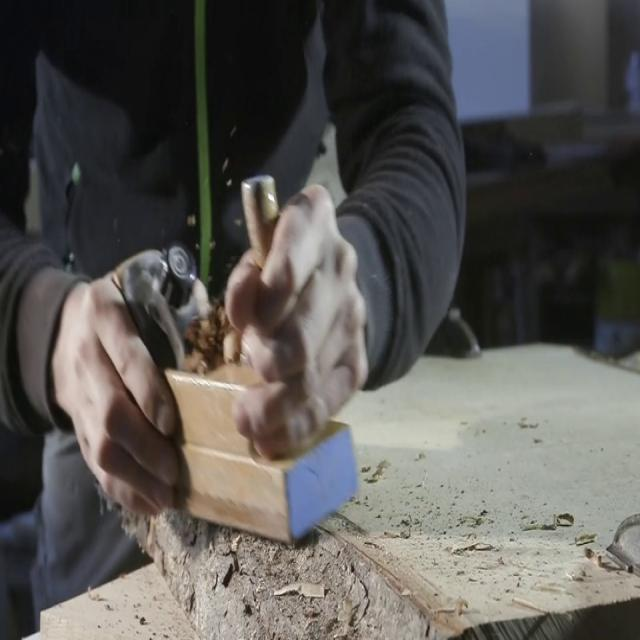not-gloved: (48, 243, 210, 520), (223, 174, 369, 463)
